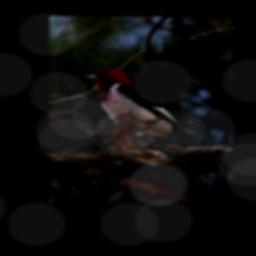Woodpecker: (75, 67, 213, 147)
